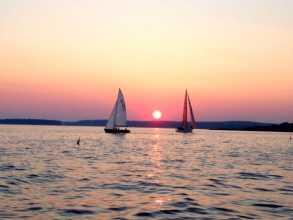fanchuan: (99, 85, 135, 139), (173, 88, 203, 134)
